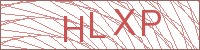H: (62, 14, 85, 43)
L: (87, 10, 108, 40)
P: (138, 9, 164, 38)
X: (110, 7, 140, 37)
